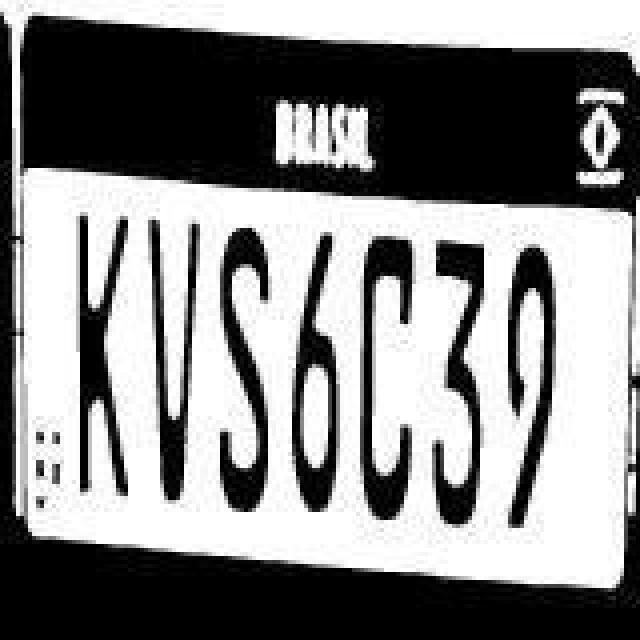3: (428, 224, 492, 528)
6: (280, 224, 336, 520)
9: (500, 210, 564, 526)
C: (338, 218, 414, 518)
K: (68, 208, 140, 504)
S: (204, 222, 276, 522)
V: (136, 220, 200, 508)
